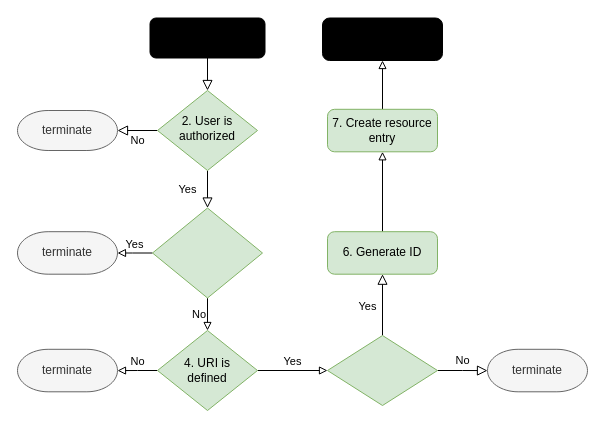
The diagram is 605 pixels wide and 428 high, and some of its shapes have lost their labels. Each missing label, with the box of its shape:
1. Publish: (149, 17, 265, 58)
3. Resource already in blockchain: (152, 207, 262, 298)
5. Code repository URI is defined: (326, 334, 438, 406)
8. Persist resource: (322, 17, 442, 60)
